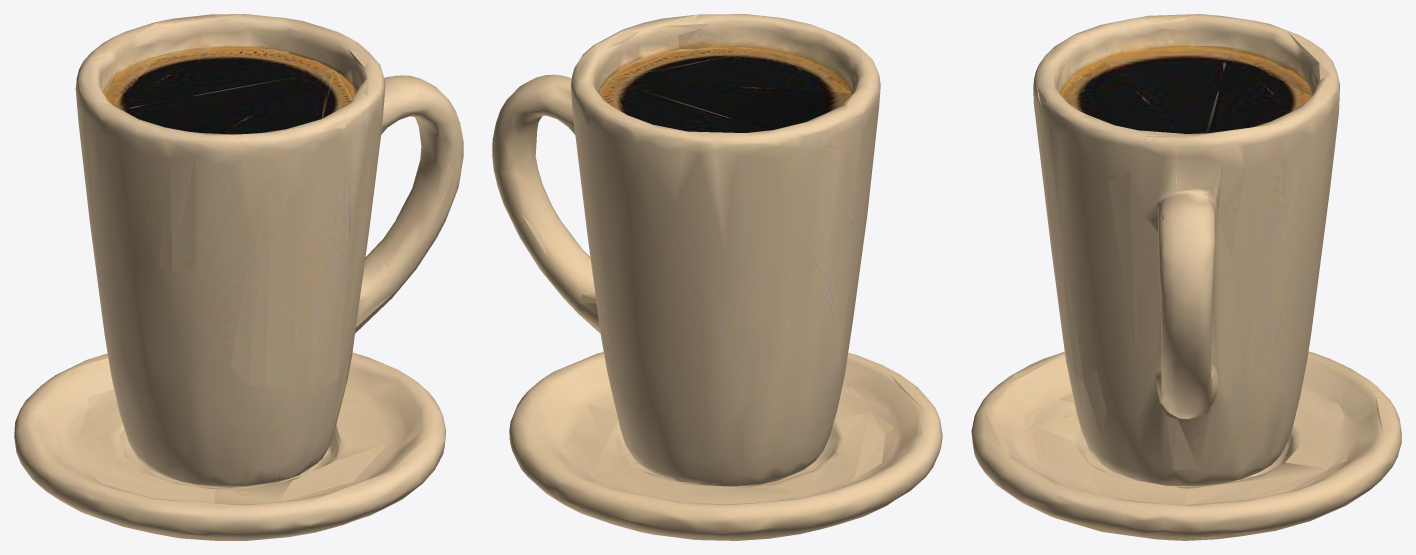
Rendered from cup_americano.gltf.
The picture shows the model from 3 angles, left to right: view 1: azimuth 30°, elevation 25°; view 2: azimuth 150°, elevation 25°; view 3: azimuth 270°, elevation 25°; orthographic projection.
Visible parts, largest first — view 1: cup_americano; view 2: cup_americano; view 3: cup_americano.
Boxes of the visible parts, x1,y1,x2,y2 form: cup_americano: [14, 14, 463, 540]; cup_americano: [492, 14, 942, 540]; cup_americano: [971, 14, 1401, 540].
Size of the model in its own units: 0.9343 by 0.85 by 0.8377.
1 material, 1 textured.
